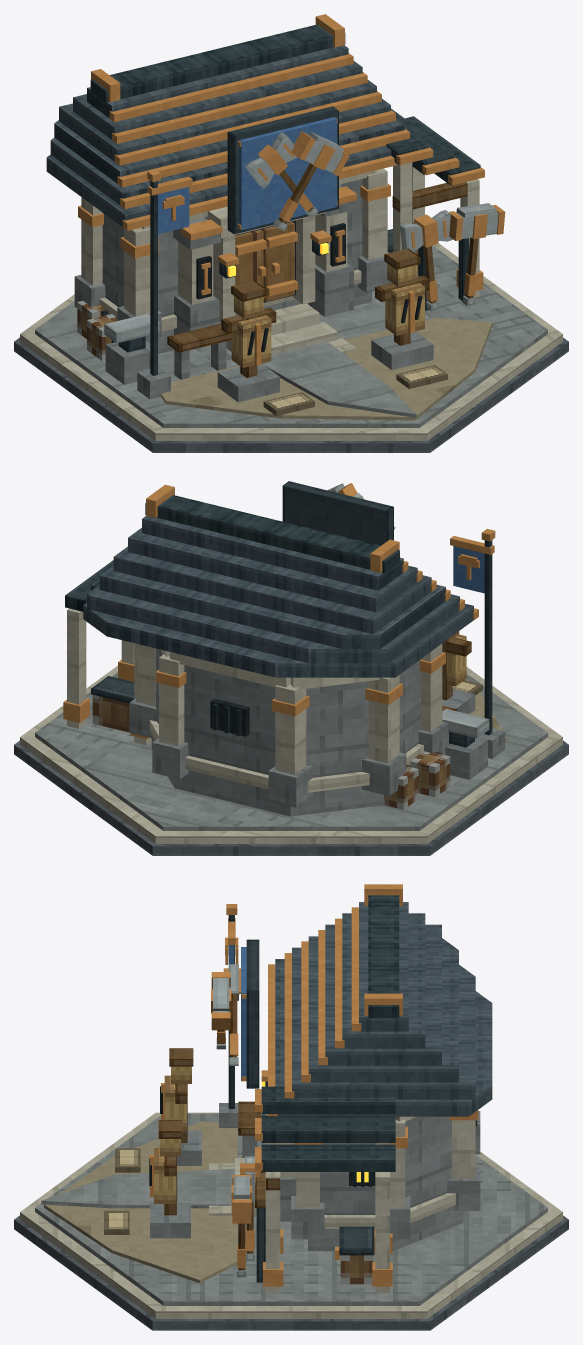
Rendered from dwarf_warrior_hall_hex_v1.glb.
3 renders of one model, top to bottom at view 1: azimuth 30°, elevation 25°; view 2: azimuth 150°, elevation 25°; view 3: azimuth 270°, elevation 25°, orthographic.
Parts seen in each view (by area): view 1: Dwarf_Warrior_Hall_Hex_V1_Roofs, Dwarf_Warrior_Hall_Hex_V1_Foundation, Dwarf_Warrior_Hall_Hex_V1_Hall, Dwarf_Warrior_Hall_Hex_V1_Courtyard, Dwarf_Warrior_Hall_Hex_V1_Details, Dwarf_Warrior_Hall_Hex_V1_Training, Dwarf_Warrior_Hall_Hex_V1_Armory, Dwarf_Warrior_Hall_Hex_V1_Faction; view 2: Dwarf_Warrior_Hall_Hex_V1_Roofs, Dwarf_Warrior_Hall_Hex_V1_Hall, Dwarf_Warrior_Hall_Hex_V1_Foundation, Dwarf_Warrior_Hall_Hex_V1_Details, Dwarf_Warrior_Hall_Hex_V1_Armory, Dwarf_Warrior_Hall_Hex_V1_Training, Dwarf_Warrior_Hall_Hex_V1_Faction, Dwarf_Warrior_Hall_Hex_V1_Courtyard; view 3: Dwarf_Warrior_Hall_Hex_V1_Roofs, Dwarf_Warrior_Hall_Hex_V1_Foundation, Dwarf_Warrior_Hall_Hex_V1_Hall, Dwarf_Warrior_Hall_Hex_V1_Courtyard, Dwarf_Warrior_Hall_Hex_V1_Armory, Dwarf_Warrior_Hall_Hex_V1_Details, Dwarf_Warrior_Hall_Hex_V1_Training, Dwarf_Warrior_Hall_Hex_V1_Faction.
Boxes of the visible parts, x1=… form: Dwarf_Warrior_Hall_Hex_V1_Roofs: x1=46, y1=14, x2=484, y2=230; Dwarf_Warrior_Hall_Hex_V1_Foundation: x1=14, y1=243, x2=568, y2=452; Dwarf_Warrior_Hall_Hex_V1_Hall: x1=74, y1=168, x2=391, y2=353; Dwarf_Warrior_Hall_Hex_V1_Courtyard: x1=161, y1=303, x2=492, y2=420; Dwarf_Warrior_Hall_Hex_V1_Details: x1=77, y1=106, x2=356, y2=399; Dwarf_Warrior_Hall_Hex_V1_Training: x1=217, y1=248, x2=433, y2=402; Dwarf_Warrior_Hall_Hex_V1_Armory: x1=387, y1=162, x2=505, y2=311; Dwarf_Warrior_Hall_Hex_V1_Faction: x1=158, y1=117, x2=336, y2=233; Dwarf_Warrior_Hall_Hex_V1_Roofs: x1=65, y1=484, x2=478, y2=677; Dwarf_Warrior_Hall_Hex_V1_Hall: x1=129, y1=643, x2=448, y2=816; Dwarf_Warrior_Hall_Hex_V1_Foundation: x1=14, y1=665, x2=568, y2=855; Dwarf_Warrior_Hall_Hex_V1_Details: x1=212, y1=481, x2=505, y2=809; Dwarf_Warrior_Hall_Hex_V1_Armory: x1=63, y1=608, x2=151, y2=745; Dwarf_Warrior_Hall_Hex_V1_Training: x1=442, y1=631, x2=475, y2=714; Dwarf_Warrior_Hall_Hex_V1_Faction: x1=453, y1=546, x2=484, y2=593; Dwarf_Warrior_Hall_Hex_V1_Courtyard: x1=452, y1=679, x2=506, y2=741; Dwarf_Warrior_Hall_Hex_V1_Roofs: x1=255, y1=884, x2=492, y2=1171; Dwarf_Warrior_Hall_Hex_V1_Foundation: x1=14, y1=1112, x2=568, y2=1330; Dwarf_Warrior_Hall_Hex_V1_Hall: x1=280, y1=1110, x2=480, y2=1250; Dwarf_Warrior_Hall_Hex_V1_Courtyard: x1=41, y1=1121, x2=261, y2=1283; Dwarf_Warrior_Hall_Hex_V1_Armory: x1=231, y1=1114, x2=392, y2=1293; Dwarf_Warrior_Hall_Hex_V1_Details: x1=211, y1=904, x2=477, y2=1186; Dwarf_Warrior_Hall_Hex_V1_Training: x1=149, y1=1048, x2=201, y2=1238; Dwarf_Warrior_Hall_Hex_V1_Faction: x1=229, y1=945, x2=246, y2=1081.
Size of the model in its own units: 1.59 by 1 by 1.84.
Materials: 1 (1 with a texture image).
